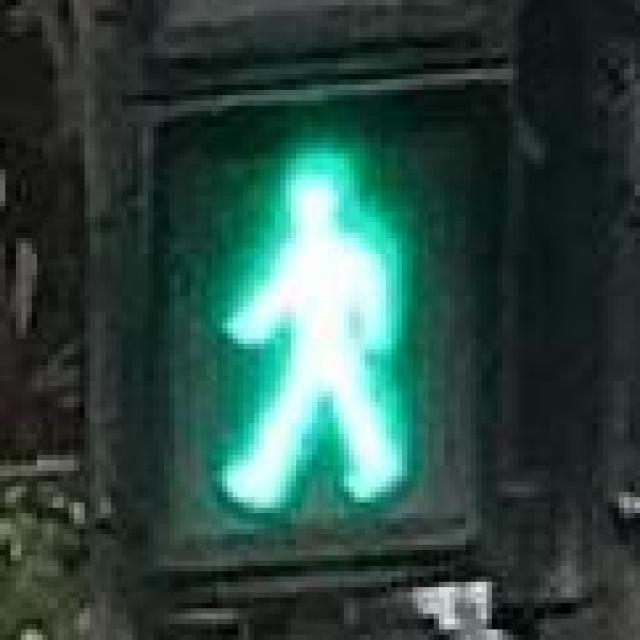geen-crossing: (127, 100, 497, 529)
